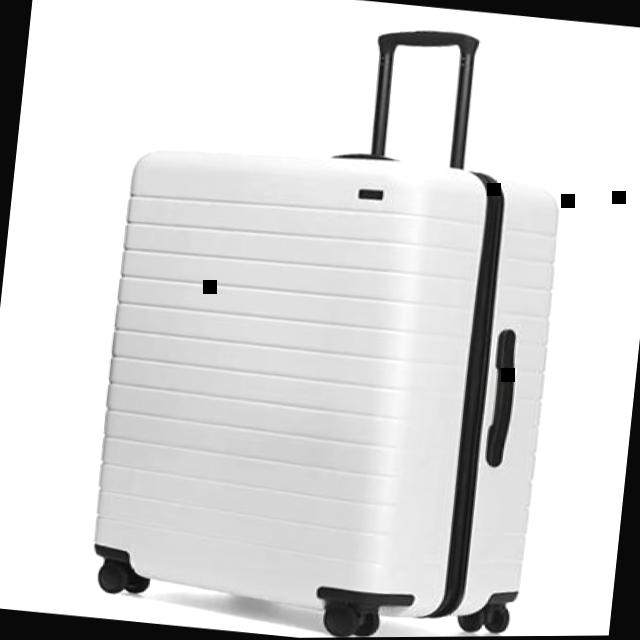luggage: (74, 121, 577, 640)
